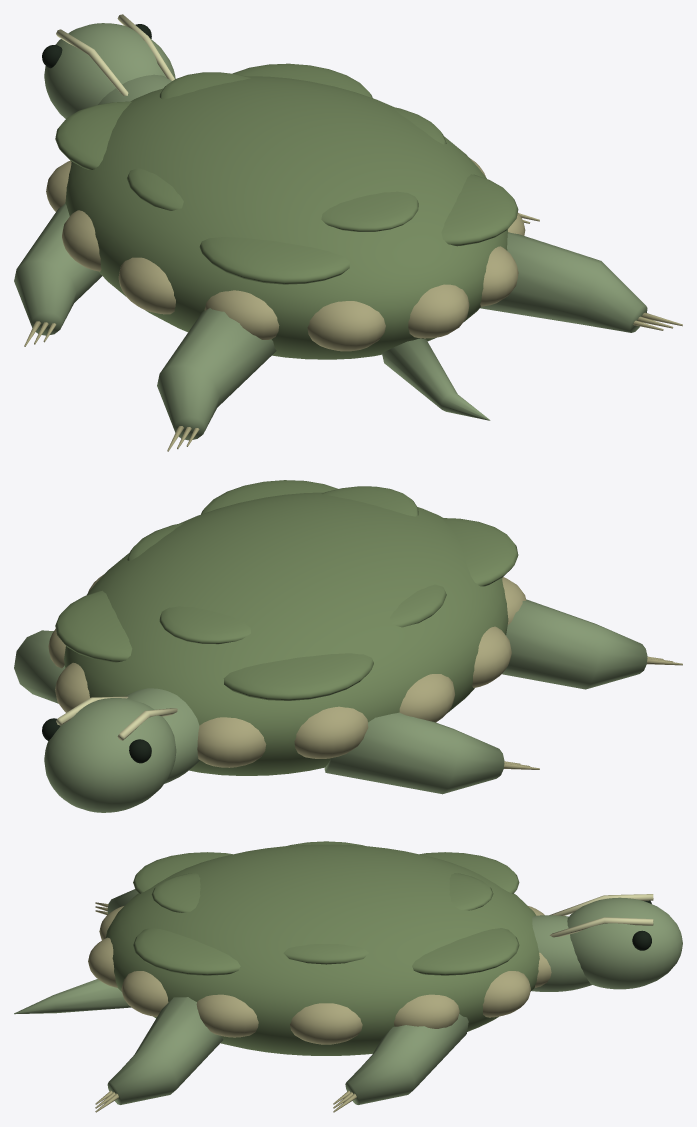
File: turtle.glb
3 renders of one model, top to bottom at view 1: azimuth 30°, elevation 25°; view 2: azimuth 150°, elevation 25°; view 3: azimuth 270°, elevation 25°, orthographic. The views are drawn at different scales.
Parts seen in each view (by area): view 1: Shell base, Webbed leg.003, Webbed leg.001, Turtle head, Webbed leg, Raised carapace scute.004, Raised carapace scute.005, Turtle tail, Marginal shell scute.004, Raised carapace scute, Vertebral scute.002, Marginal shell scute.003 (+10 smaller); view 2: Shell base, Turtle head, Webbed leg, Webbed leg.001, Raised carapace scute, Raised carapace scute.001, Raised carapace scute.004, Marginal shell scute.008, Marginal shell scute.009, Vertebral scute, Turtle neck, Webbed leg.002 (+9 smaller); view 3: Shell base, Turtle head, Webbed leg.003, Webbed leg.002, Raised carapace scute.001, Raised carapace scute.005, Turtle neck, Marginal shell scute, Turtle tail, Marginal shell scute.001, Marginal shell scute.012, Marginal shell scute.011 (+9 smaller).
Part boxes in pixels (bbox=[...]): Shell base: bbox=[65, 76, 507, 359]; Webbed leg.003: bbox=[480, 232, 647, 332]; Webbed leg.001: bbox=[157, 308, 276, 440]; Turtle head: bbox=[44, 23, 175, 118]; Webbed leg: bbox=[14, 203, 101, 335]; Raised carapace scute.004: bbox=[199, 237, 349, 284]; Raised carapace scute.005: bbox=[441, 174, 518, 246]; Turtle tail: bbox=[382, 338, 490, 420]; Marginal shell scute.004: bbox=[307, 301, 385, 351]; Raised carapace scute: bbox=[55, 101, 131, 169]; Vertebral scute.002: bbox=[321, 191, 418, 231]; Marginal shell scute.003: bbox=[408, 284, 469, 338]; Shell base: bbox=[64, 492, 508, 775]; Turtle head: bbox=[44, 698, 176, 812]; Webbed leg: bbox=[324, 712, 504, 794]; Webbed leg.001: bbox=[502, 599, 647, 689]; Raised carapace scute: bbox=[223, 653, 373, 700]; Raised carapace scute.001: bbox=[55, 590, 132, 662]; Raised carapace scute.004: bbox=[441, 518, 518, 586]; Marginal shell scute.008: bbox=[294, 706, 368, 758]; Marginal shell scute.009: bbox=[197, 717, 266, 767]; Vertebral scute: bbox=[159, 606, 250, 644]; Turtle neck: bbox=[126, 688, 199, 783]; Webbed leg.002: bbox=[14, 630, 65, 703]; Shell base: bbox=[105, 844, 539, 1055]; Turtle head: bbox=[567, 897, 682, 989]; Webbed leg.003: bbox=[107, 997, 223, 1104]; Webbed leg.002: bbox=[345, 1014, 468, 1104]; Raised carapace scute.001: bbox=[412, 928, 519, 975]; Raised carapace scute.005: bbox=[133, 928, 240, 975]; Turtle neck: bbox=[532, 915, 592, 991]; Marginal shell scute: bbox=[290, 1003, 362, 1044]; Turtle tail: bbox=[14, 979, 131, 1014]; Marginal shell scute.001: bbox=[196, 994, 258, 1037]; Marginal shell scute.012: bbox=[394, 994, 459, 1028]; Marginal shell scute.011: bbox=[483, 971, 530, 1017].
Size of the model in its own units: 1.33 by 0.46 by 1.8.
